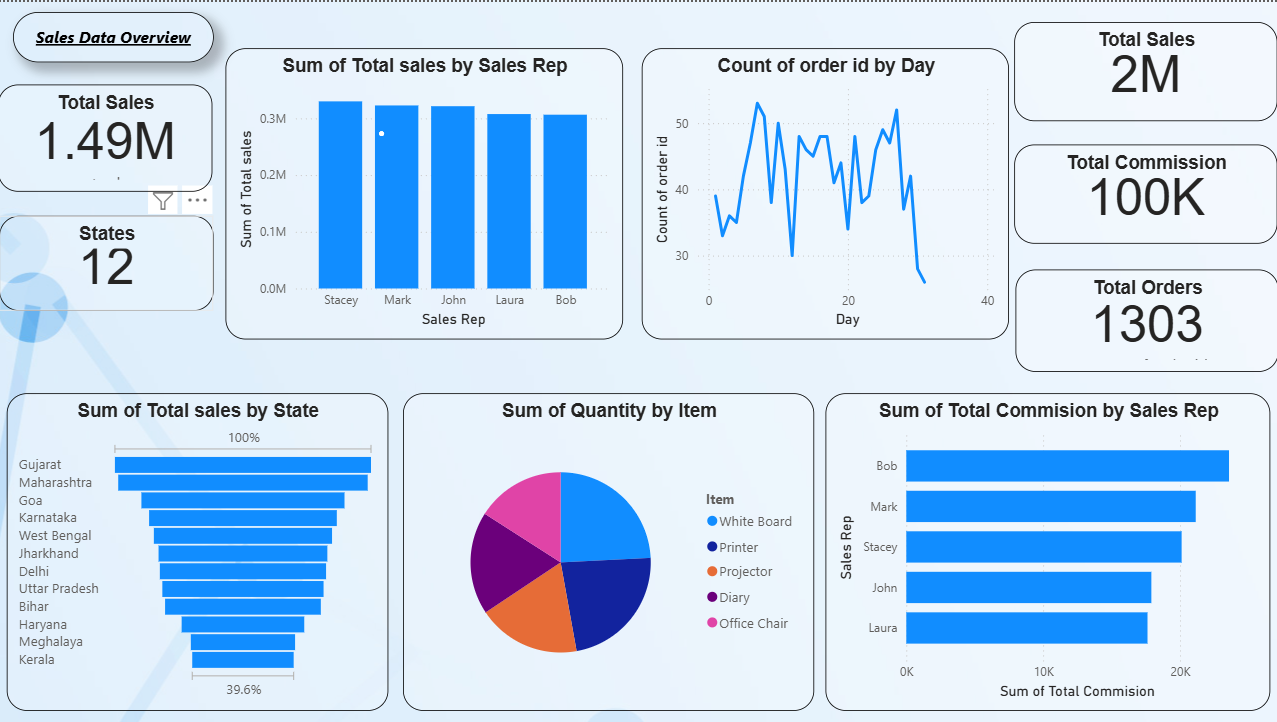

The dashboard page shown, as its layout file describes it:
{"tool":"powerbi","page":{"name":"Page 1","canvas":[1280,720],"ordinal":0},"visuals":[{"type":"columnChart","fields":{"Category":["Sheet1.Sales Rep"],"Y":["Sum(Sheet1.Total sales)"]},"box":[227.4,46.5,397.4,291],"z":0},{"type":"pieChart","fields":{"Category":["Sheet1.Item"],"Y":["Sum(Sheet1.Quantity)"]},"box":[405,391.2,411.2,317.5],"z":1000},{"type":"lineChart","fields":{"Category":["Sheet1.Date.Variation.Date Hierarchy.Day"],"Y":["CountNonNull(Sheet1.order id)"]},"box":[643.8,46.2,367.5,291.2],"z":2000},{"type":"clusteredBarChart","fields":{"Category":["Sheet1.Sales Rep"],"Y":["Sum(Sheet1.Total Commision)"]},"box":[827.5,391.2,445,317.5],"z":3000},{"type":"funnel","fields":{"Category":["Sheet1.State"],"Y":["Sum(Sheet1.Total sales)"]},"box":[8.8,391.2,381.2,317.5],"z":4000},{"type":"card","title":"Total Sales","fields":{"Values":["Sum(Sheet1.Total sales)"]},"box":[1016.2,19.6,262.9,99],"z":5000},{"type":"card","title":"Total Commission","fields":{"Values":["Sum(Sheet1.Total Commision)"]},"box":[1016.2,143.1,262.9,99],"z":6000},{"type":"card","title":"Total Orders","fields":{"Values":["CountNonNull(Sheet1.order id)"]},"box":[1017.4,267.8,262.9,102.7],"z":7000},{"type":"card","title":"States","fields":{"Values":["Count(Sheet1.State)"]},"box":[1,214,214,95],"z":8000},{"type":"card","title":"Total Sales ","fields":{"Values":["Sheet1.net sales"]},"box":[0,82,214,107],"z":9000},{"type":"textbox","box":[15,10,201,50],"z":9001}]}

Visuals, with their boxes in screenshot pixels (x1, y1, x2, y2), scaled from the page's 1280x720 canvas onto the 1277x722 screenshot:
columnChart - Sheet1.Sales Rep x Sum(Sheet1.Total sales): bbox=(227, 47, 623, 338)
pieChart - Sheet1.Item x Sum(Sheet1.Quantity): bbox=(404, 392, 814, 711)
lineChart - Sheet1.Date.Variation.Date Hierarchy.Day x CountNonNull(Sheet1.order id): bbox=(642, 46, 1009, 338)
clusteredBarChart - Sheet1.Sales Rep x Sum(Sheet1.Total Commision): bbox=(826, 392, 1270, 711)
funnel - Sheet1.State x Sum(Sheet1.Total sales): bbox=(9, 392, 389, 711)
"Total Sales" card: bbox=(1014, 20, 1276, 119)
"Total Commission" card: bbox=(1014, 143, 1276, 243)
"Total Orders" card: bbox=(1015, 269, 1276, 372)
"States" card: bbox=(1, 215, 214, 310)
"Total Sales " card: bbox=(0, 82, 213, 190)
textbox: bbox=(15, 10, 215, 60)
